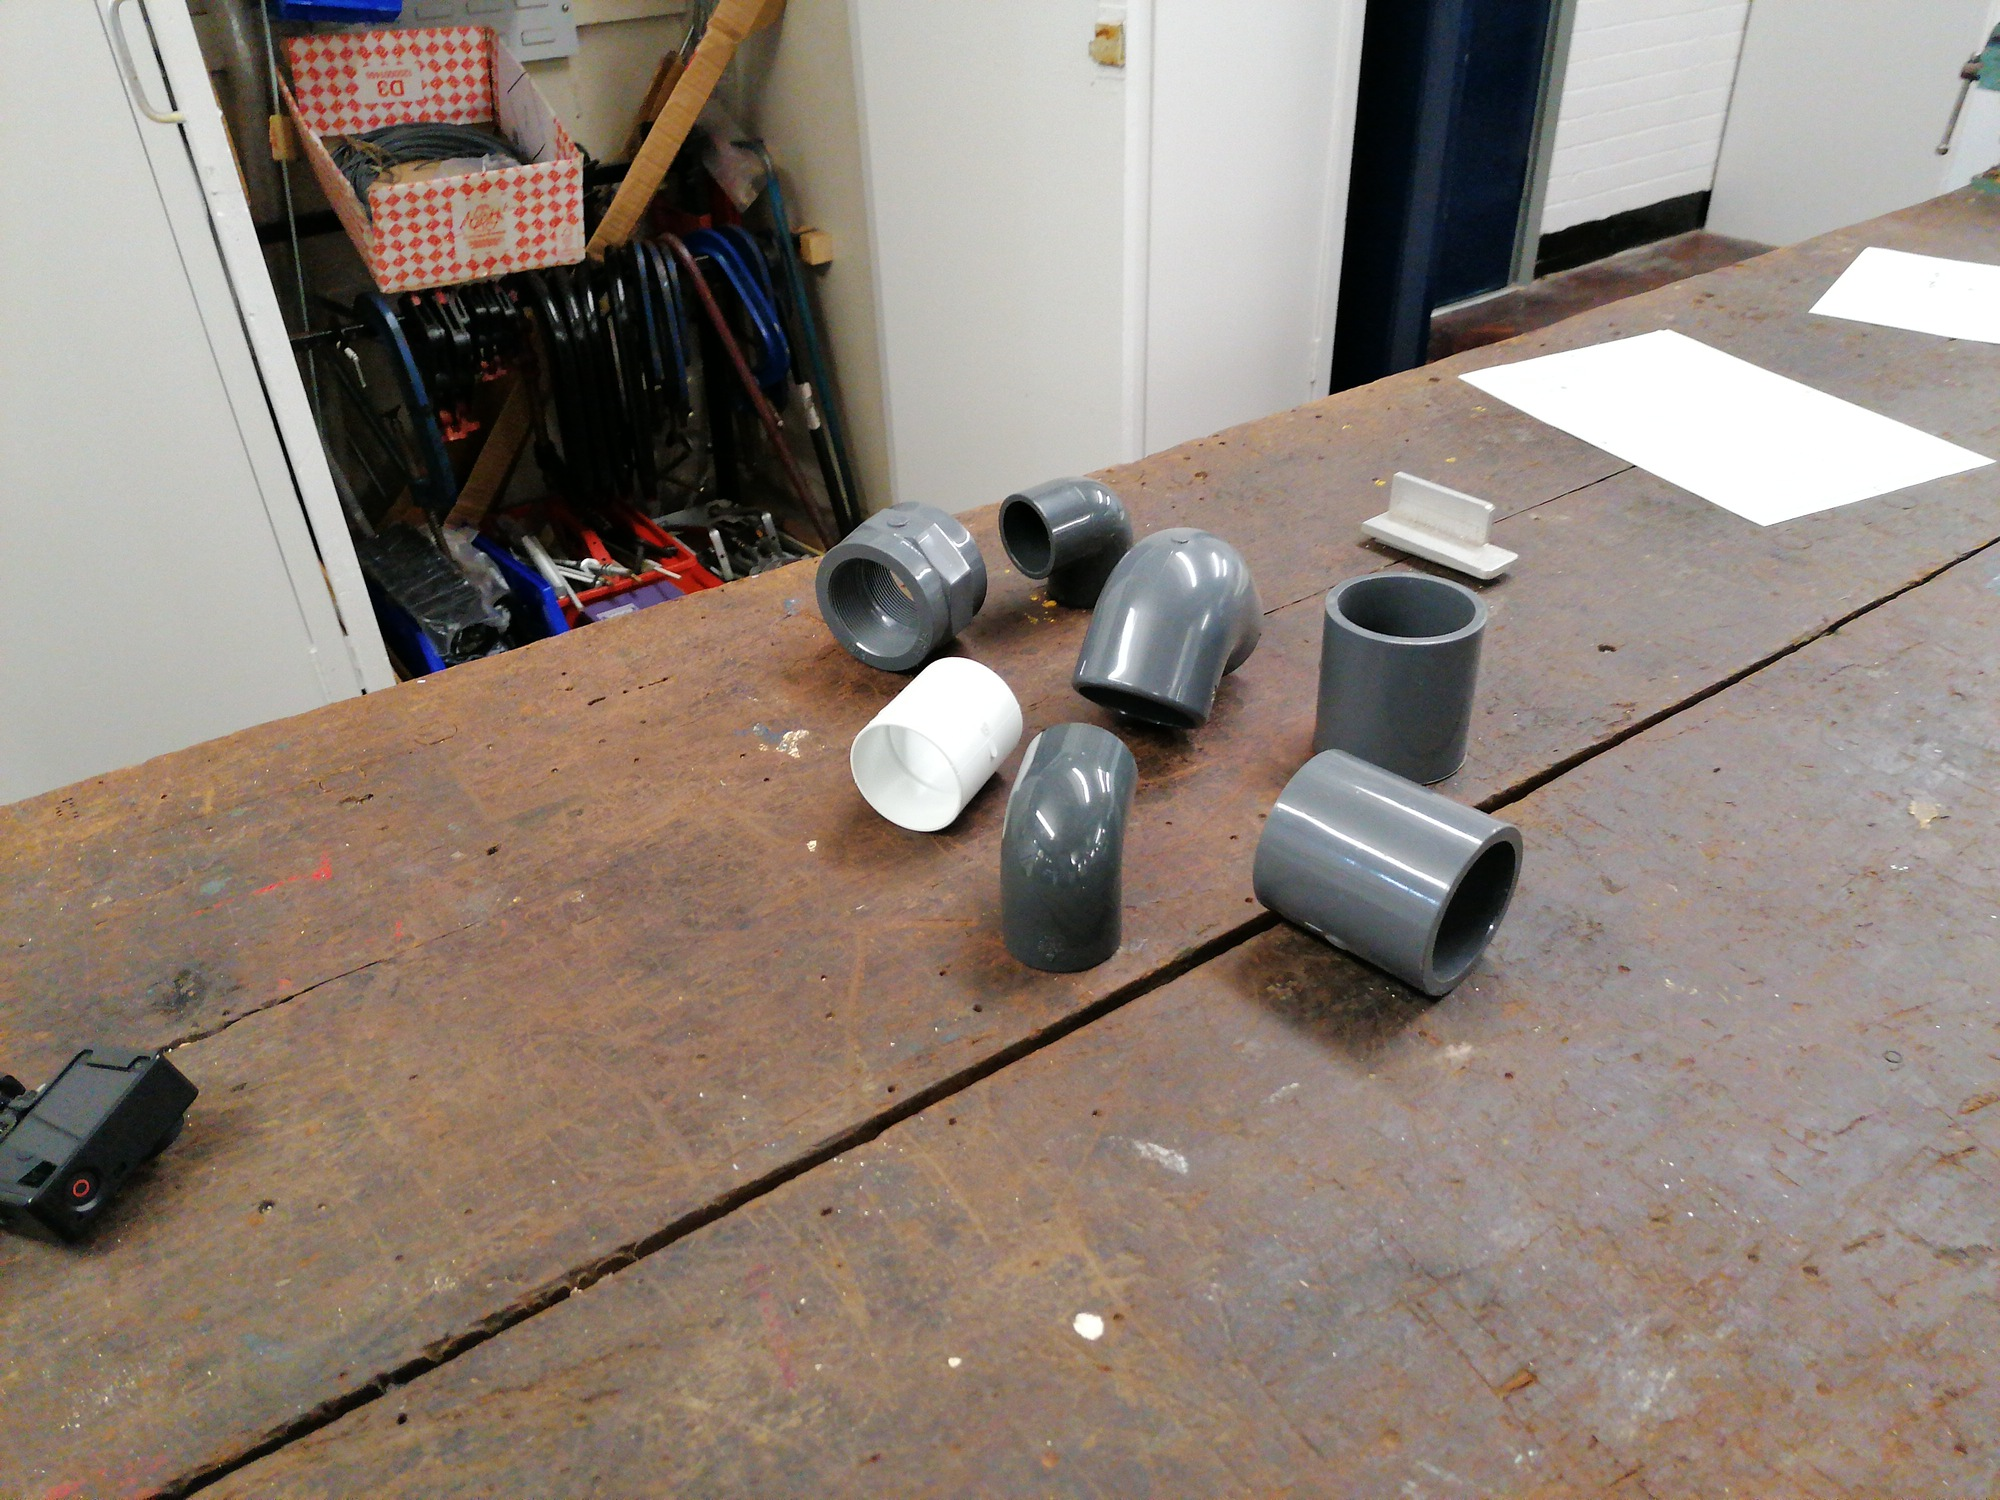nut: (816, 503, 987, 674)
pipe: (1249, 745, 1526, 999), (1071, 526, 1261, 728), (1310, 570, 1488, 785), (997, 722, 1139, 972), (847, 655, 1024, 832), (998, 474, 1137, 608)
